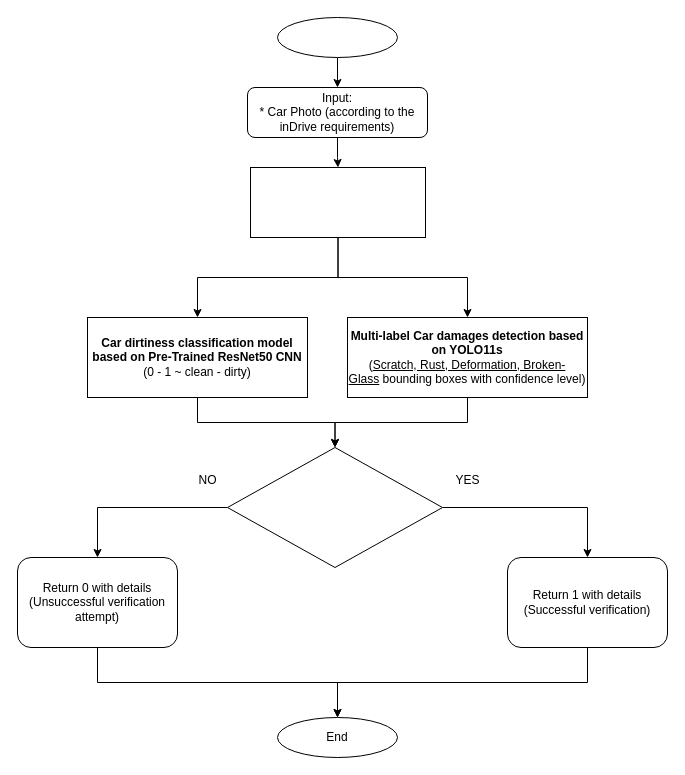
Image size: 685x775. Some labels were removed from this diagram. Here are the shapes that lost their labels. From the top down, the centre of each, then its label:
(337,37): Start
(338,202): Image Pre-Processing: * Re-size + RGB;
(334,507): Is the C ar C lean and No D amage found (with pre-defined THRESHOLDs) ?
